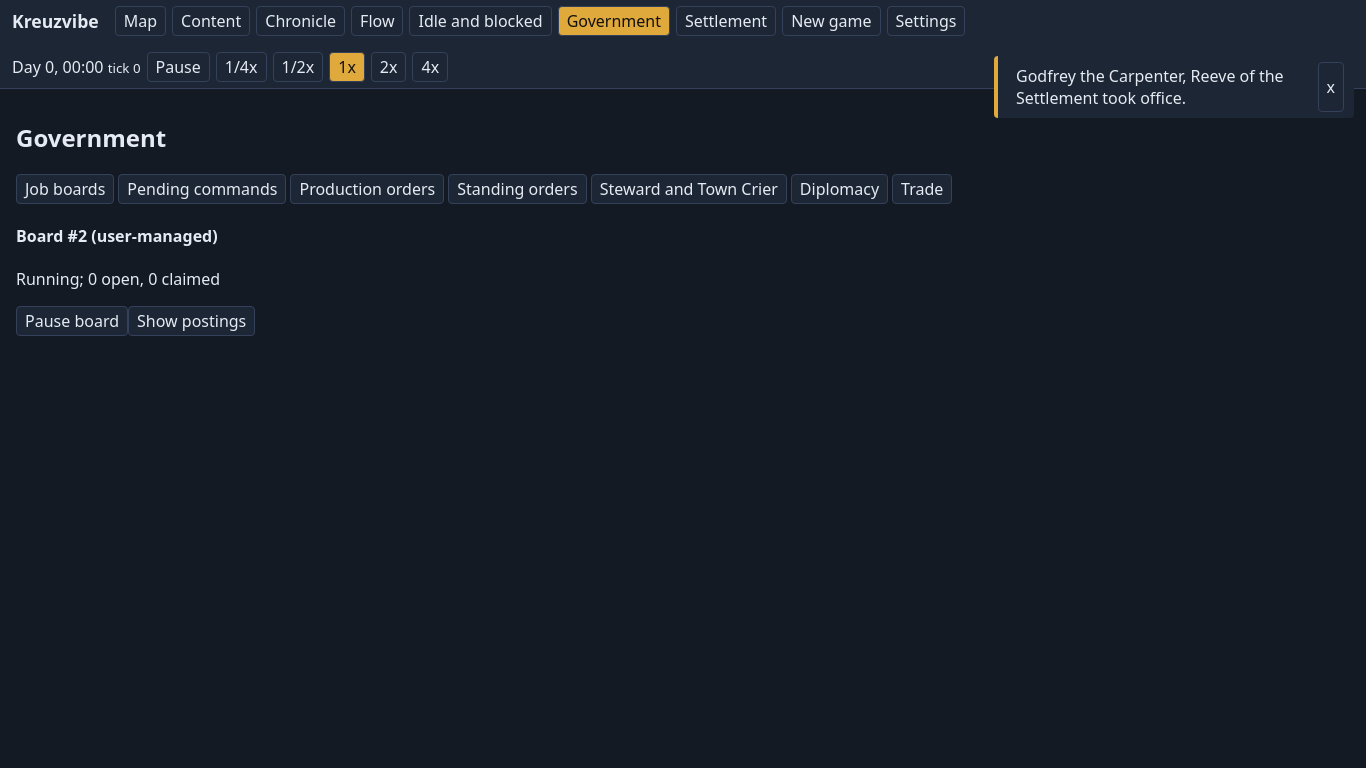
StandingOrdersTab › shows field errors without sending anything for a bad form
Click the tab "Standing orders": coordinates (518, 189) [448,174,587,204]
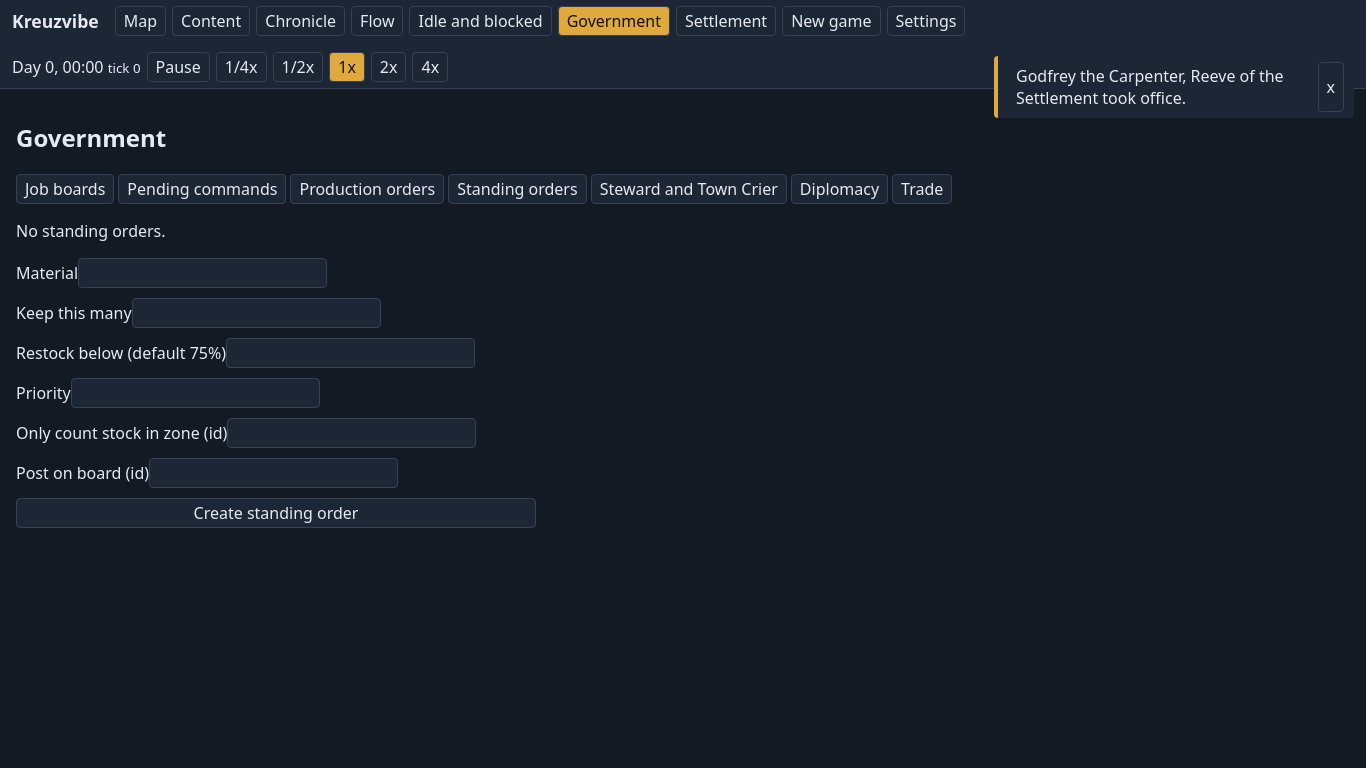
Click the button "Create standing order": coordinates (276, 513) [16,498,536,528]
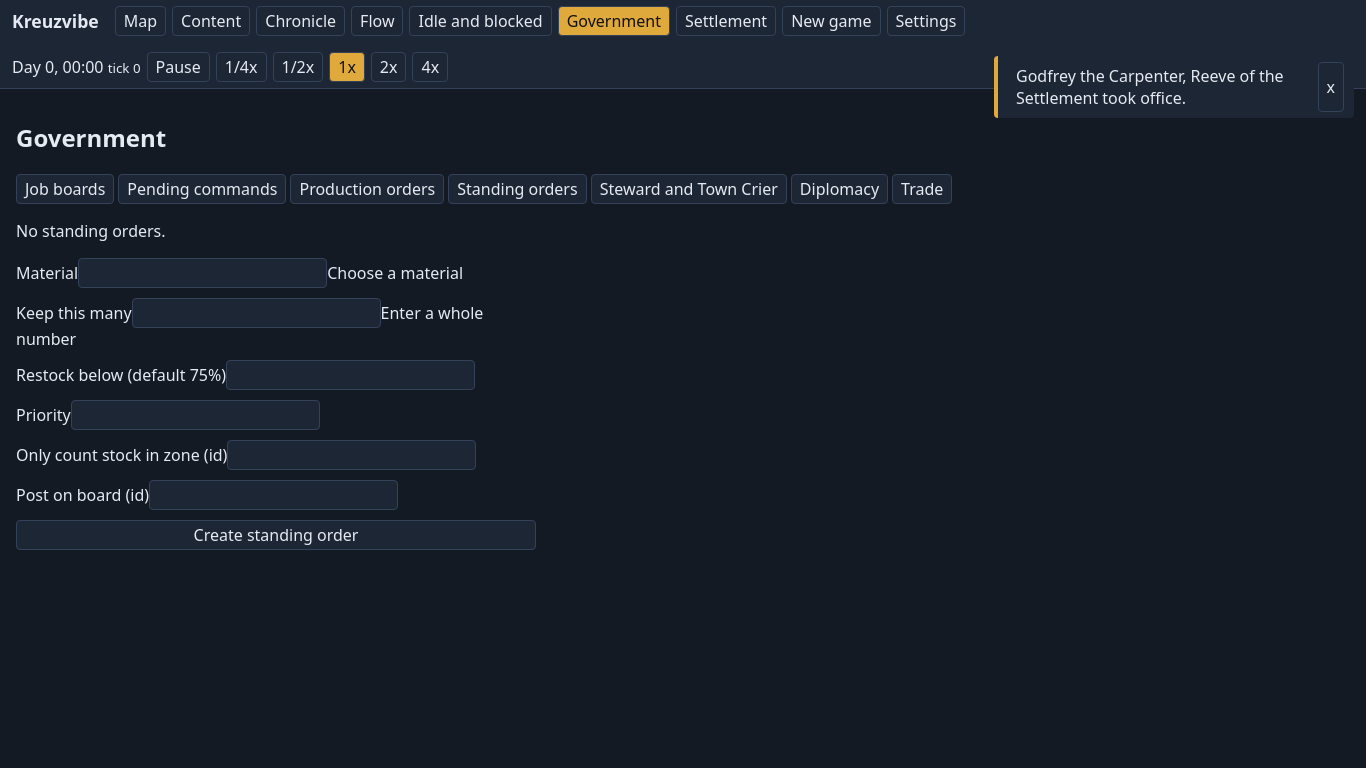
expect the text "Choose a material" is shown: met, box [327,262,463,284]
expect the text "Enter a whole number" is shown: met, box [16,302,483,350]
